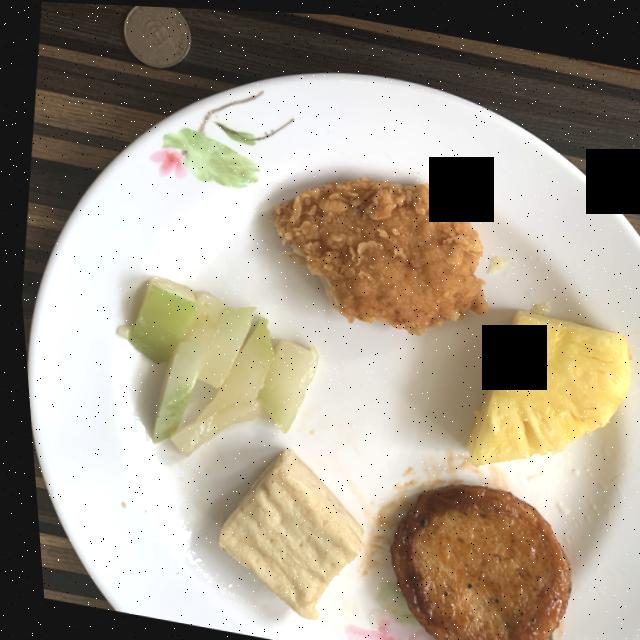coin: (123, 5, 191, 66)
creamy tofu -without sauce-: (210, 447, 354, 617)
fish cake: (382, 480, 562, 640)
fried chicken cutlet: (269, 174, 483, 331)
pineapple: (461, 305, 625, 461)
